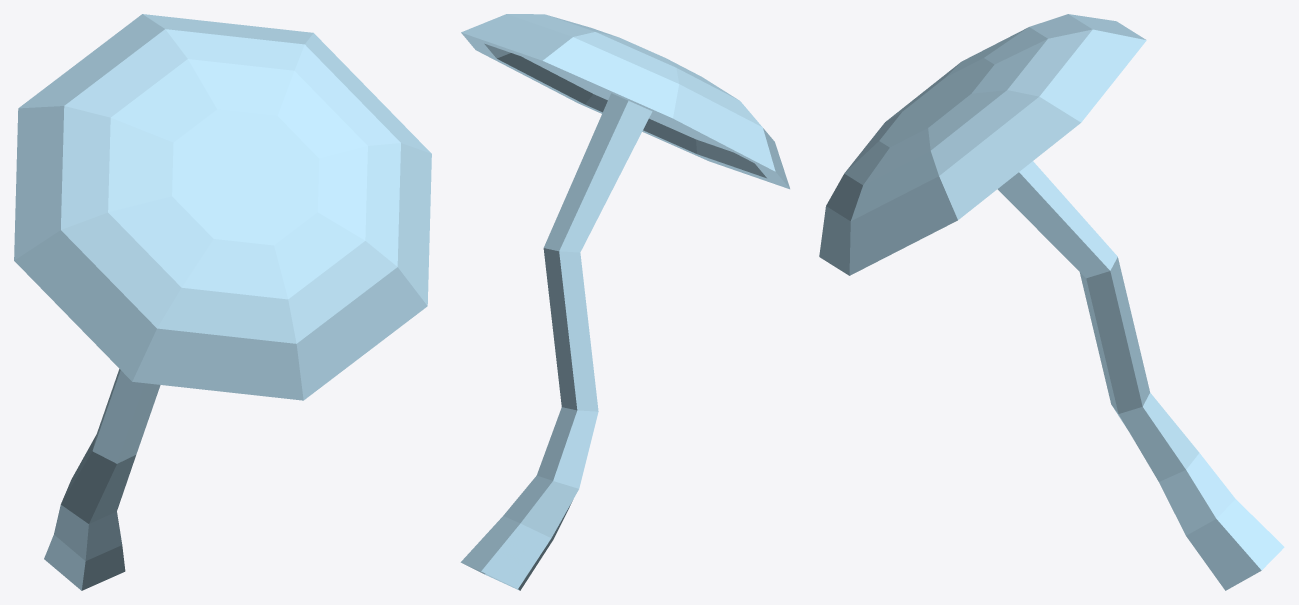
File: Mushrooms_12.fbx
The picture shows the model from 3 angles, left to right: view 1: azimuth 30°, elevation 25°; view 2: azimuth 150°, elevation 25°; view 3: azimuth 270°, elevation 25°; orthographic projection. The views are drawn at different scales.
Visible parts, largest first — view 1: Mushrooms_12; view 2: Mushrooms_12; view 3: Mushrooms_12.
Part boxes in pixels (x1,y1,x2,y2): Mushrooms_12: [14, 14, 431, 590]; Mushrooms_12: [460, 14, 789, 590]; Mushrooms_12: [819, 14, 1284, 590].
Size of the model in its own units: 0.5916 by 0.6756 by 0.8885.
